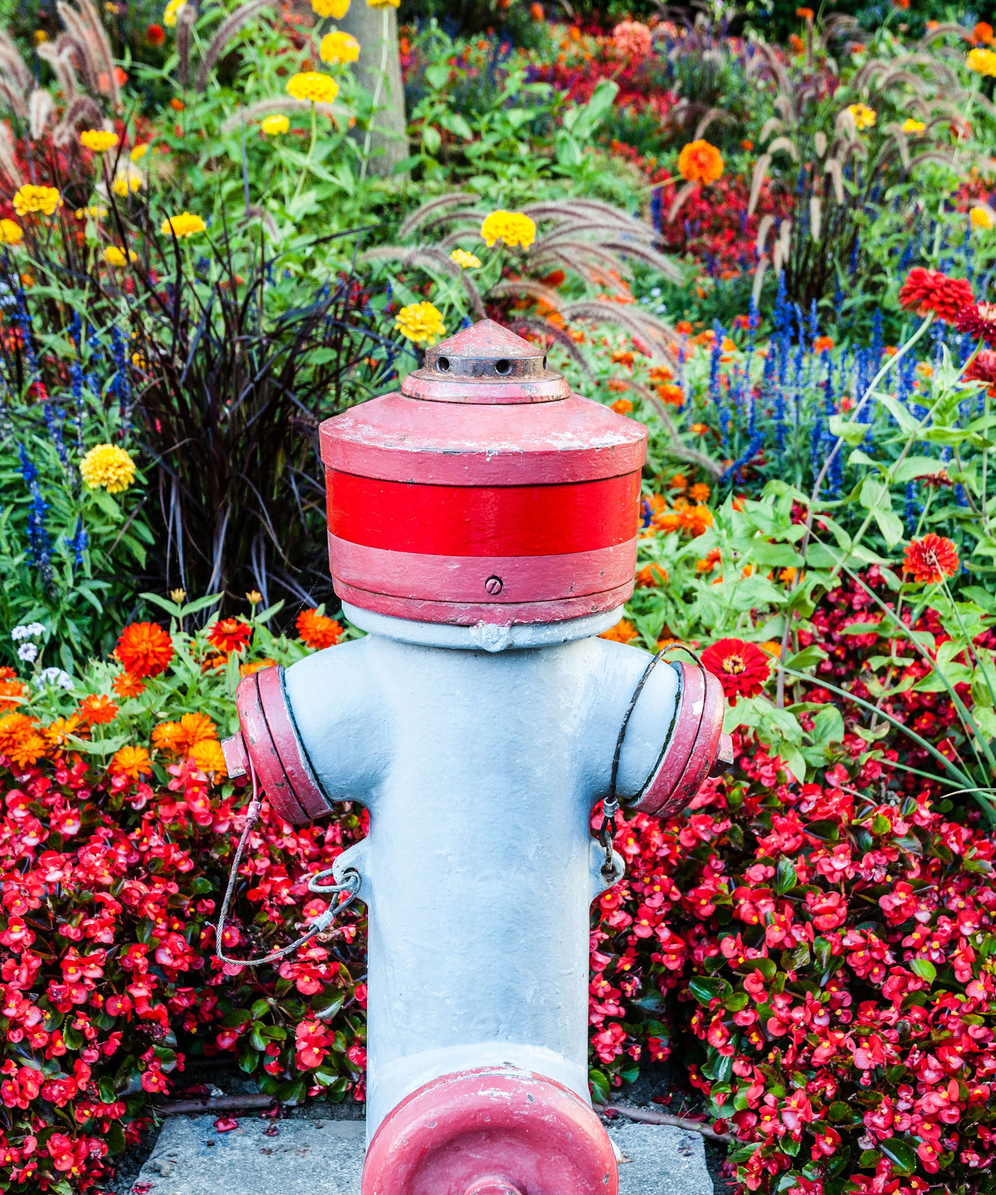FireHydrant: (163, 296, 755, 1187)
